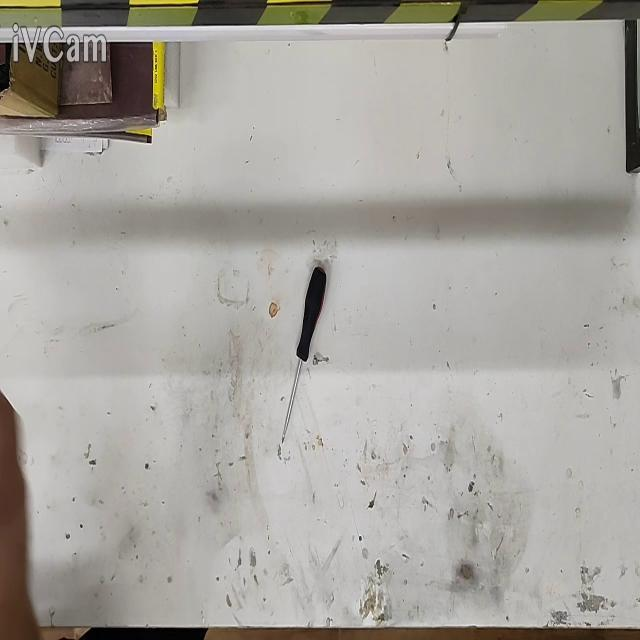Screwdriver: (281, 267, 326, 442)
